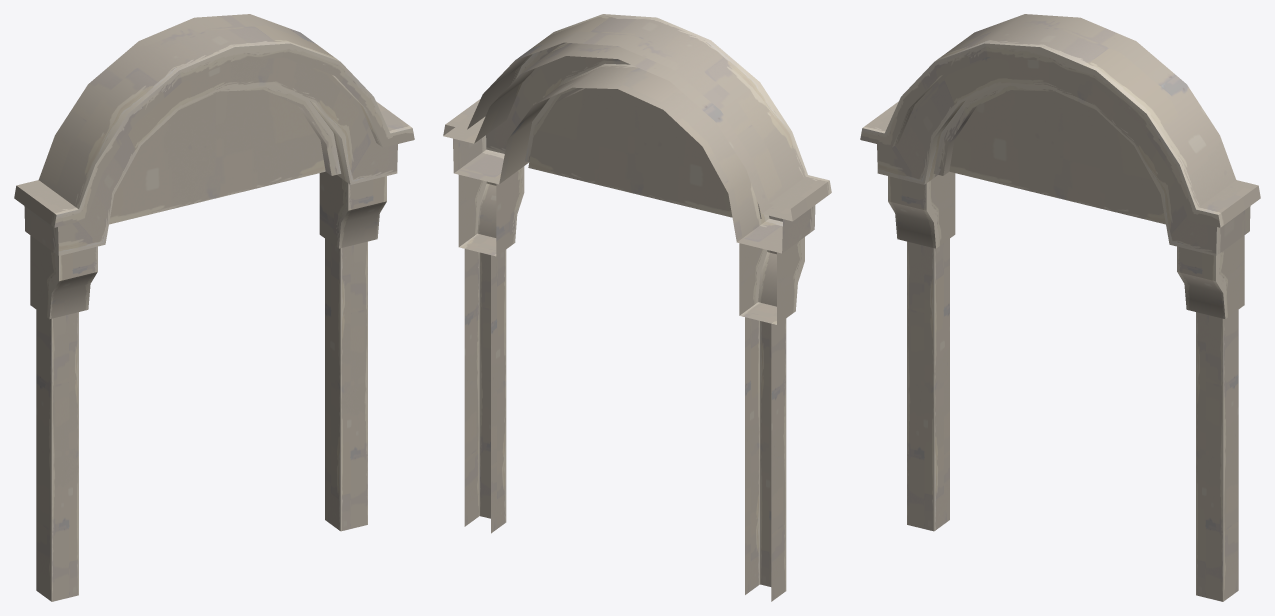
The model's file is MOD_Door_03_framedeco_01_02.fbx.
The picture shows the model from 3 angles, left to right: view 1: azimuth 30°, elevation 25°; view 2: azimuth 150°, elevation 25°; view 3: azimuth 330°, elevation 25°; orthographic projection. The views are drawn at different scales.
Visible parts, largest first — view 1: MOD_Door_03_framedeco_01_02; view 2: MOD_Door_03_framedeco_01_02; view 3: MOD_Door_03_framedeco_01_02.
Part boxes in pixels (x1,y1,x2,y2): MOD_Door_03_framedeco_01_02: (14, 14, 414, 601); MOD_Door_03_framedeco_01_02: (443, 14, 831, 601); MOD_Door_03_framedeco_01_02: (860, 14, 1260, 601).
Size of the model in its own units: 267 by 378 by 51.68.
